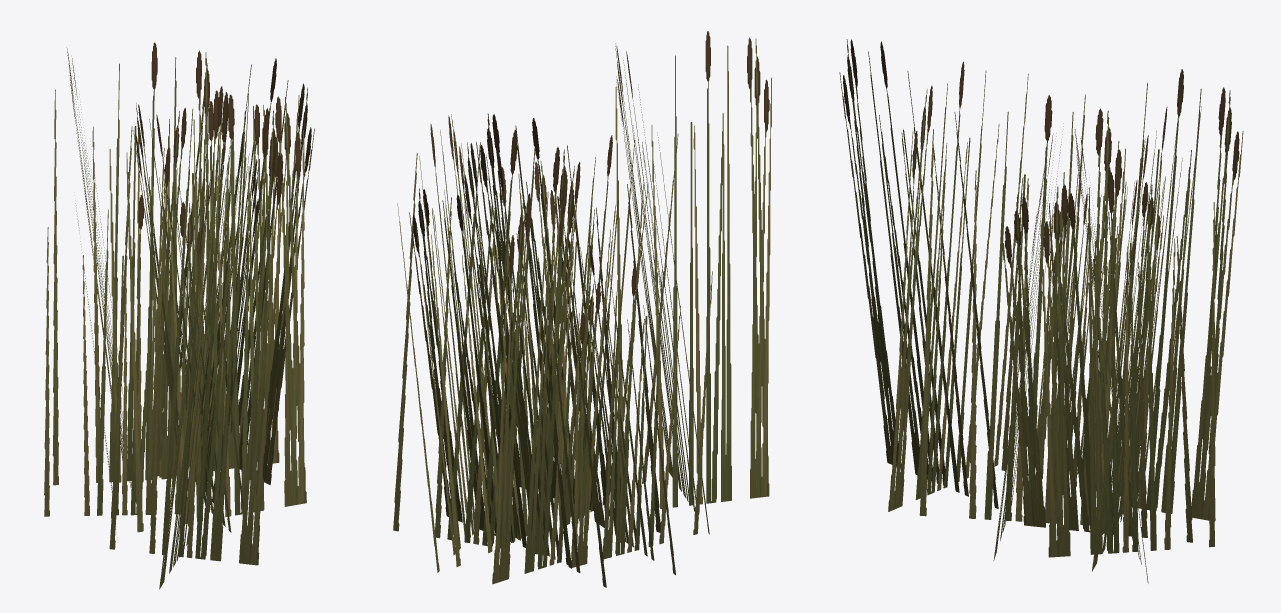
File: SM_Art_Veg_Reeds_0.gltf
3 renders of one model, left to right at view 1: azimuth 30°, elevation 25°; view 2: azimuth 150°, elevation 25°; view 3: azimuth 270°, elevation 25°, orthographic.
Parts seen in each view (by area): view 1: SM_Art_Veg_Reeds_0; view 2: SM_Art_Veg_Reeds_0; view 3: SM_Art_Veg_Reeds_0.
Boxes of the visible parts, x1=… form: SM_Art_Veg_Reeds_0: x1=44, y1=42, x2=314, y2=589; SM_Art_Veg_Reeds_0: x1=393, y1=31, x2=771, y2=587; SM_Art_Veg_Reeds_0: x1=839, y1=39, x2=1243, y2=583.
Size of the model in its own units: 1.44 by 1.99 by 1.78.
1 material, 1 textured.
